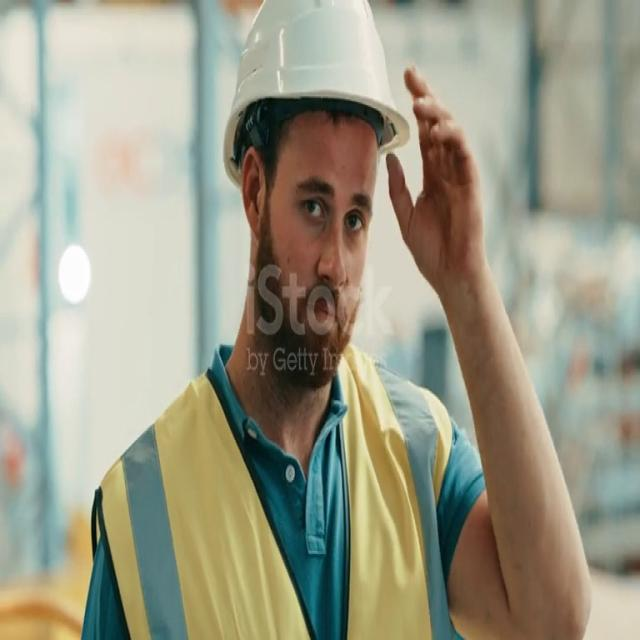capacete: (206, 4, 421, 192)
